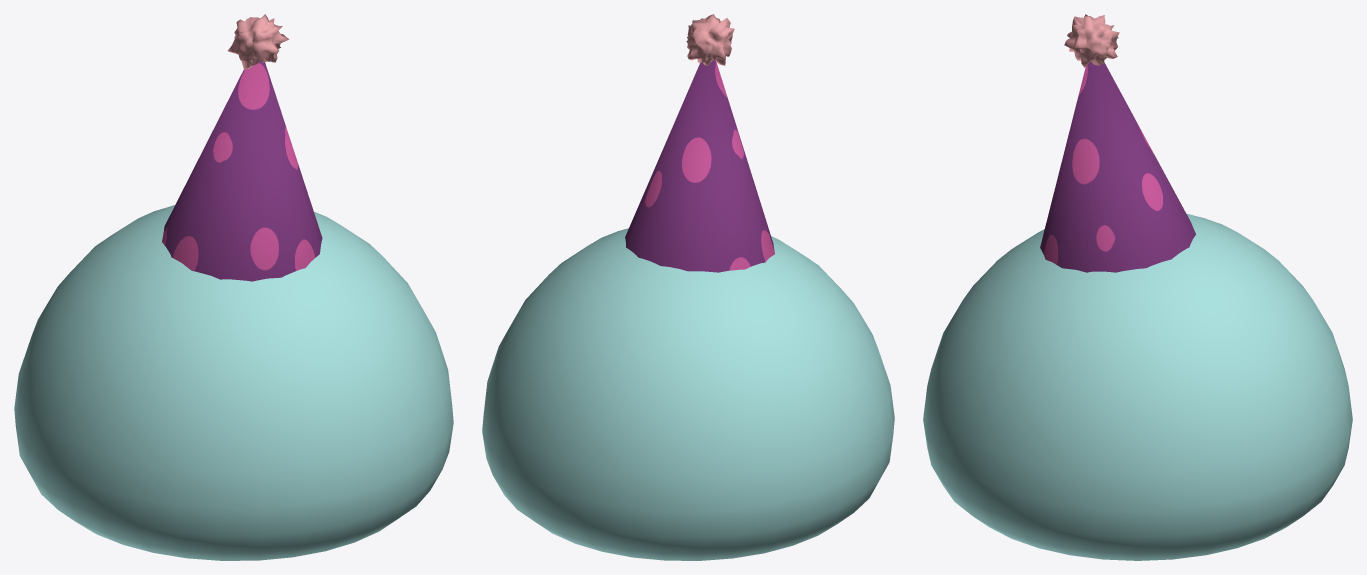
The model's file is slimePartyHatV2.fbx.
3 views of the same model, side by side, from view 1: azimuth 30°, elevation 25°; view 2: azimuth 150°, elevation 25°; view 3: azimuth 270°, elevation 25° (orthographic). The views are drawn at different scales.
Visible parts, largest first — view 1: Cube; view 2: Cube; view 3: Cube.
Part boxes in pixels (x1,y1,x2,y2): Cube: (14,14,453,560); Cube: (482,14,894,560); Cube: (923,14,1352,560).
Size of the model in its own units: 85.22 by 109 by 85.9.
